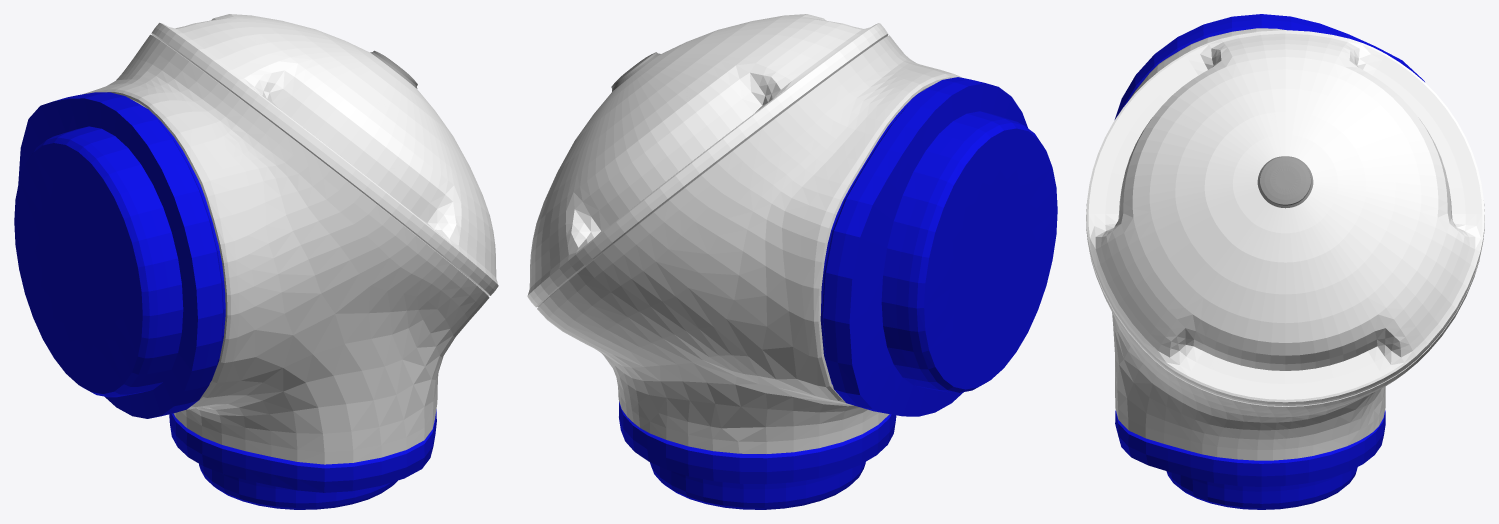
File: u_axis.dae
The picture shows the model from 3 angles, left to right: view 1: azimuth 30°, elevation 25°; view 2: azimuth 150°, elevation 25°; view 3: azimuth 270°, elevation 25°; orthographic projection. The views are drawn at different scales.
Parts seen in each view (by area): view 1: Circle.005, Circle.002, Circle.001, Circle.004; view 2: Circle.005, Circle.002, Circle.001, Circle.004; view 3: Circle.001, Circle.005, Circle.004, Circle.002.
Part boxes in pixels (box(x1,y1,x2,y2)): Circle.005: box(83, 34, 489, 464); Circle.002: box(14, 92, 225, 418); Circle.001: box(151, 14, 498, 295); Circle.004: box(169, 409, 436, 509); Circle.005: box(537, 35, 961, 453); Circle.002: box(820, 77, 1057, 416); Circle.001: box(527, 14, 888, 307); Circle.004: box(619, 383, 896, 509); Circle.001: box(1086, 30, 1484, 406); Circle.005: box(1087, 28, 1483, 460); Circle.004: box(1115, 410, 1385, 509); Circle.002: box(1114, 14, 1424, 119).
Size of the model in its own units: 0.2111 by 0.1993 by 0.2217.
